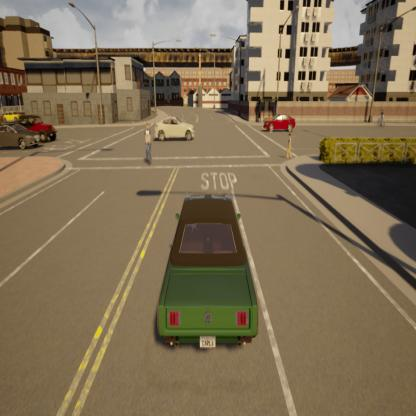Cars: (160, 191, 268, 365), (142, 102, 199, 142), (10, 112, 58, 145), (0, 122, 41, 149), (263, 111, 302, 134), (3, 104, 22, 118)
Pedestrian: (284, 129, 296, 164)
